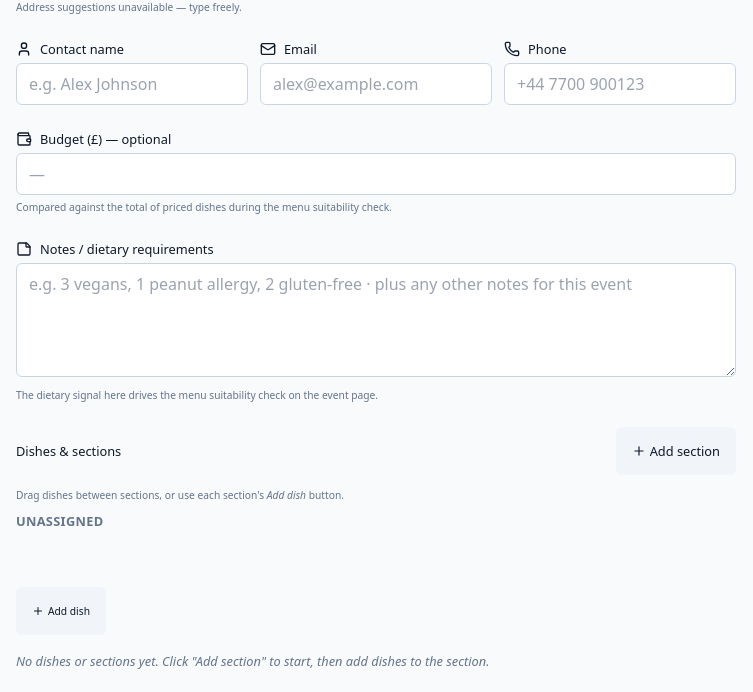
EventEditor › offers "Create new recipe" and "I'll get the dish ready" when nothing matches
The width and height of the screenshot is (753, 692).
(page scrolled)
Click the button "Add dish" at (61, 611), box [16,587,106,635]
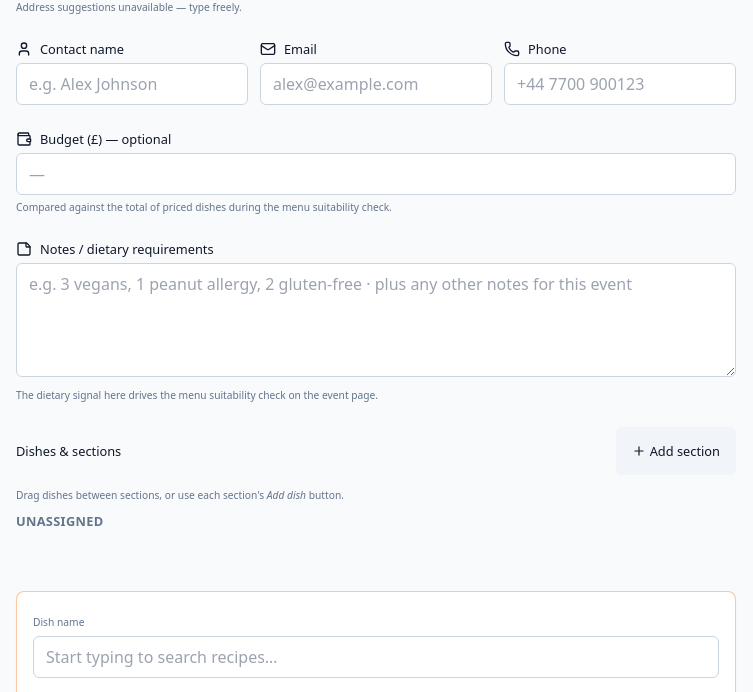
Type "Mystery casserole" into the field named "dish name" at (376, 657), box [33,636,719,678]
(page scrolled)
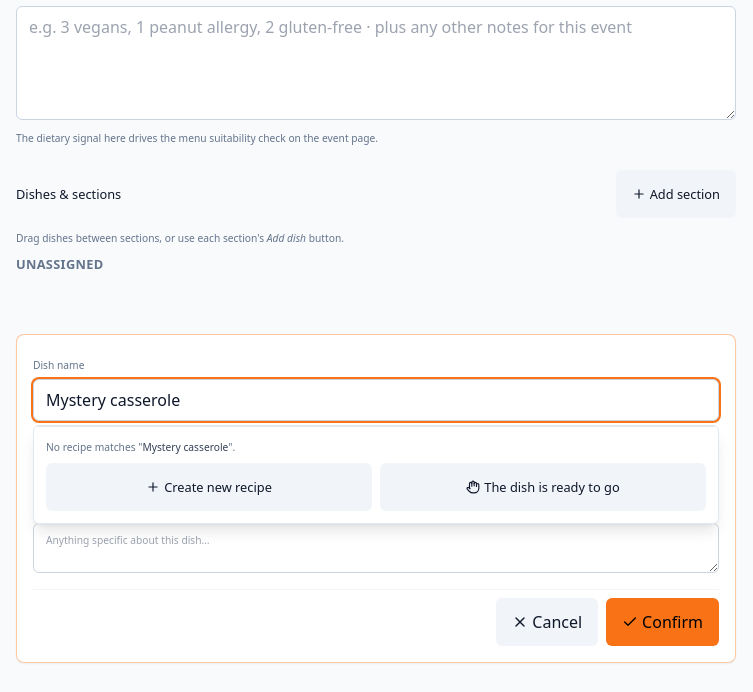
Expected: the button "Create new recipe" is shown, [46,463,372,511]
Expected: the button "The dish is ready to go" is shown, [380,463,706,511]
